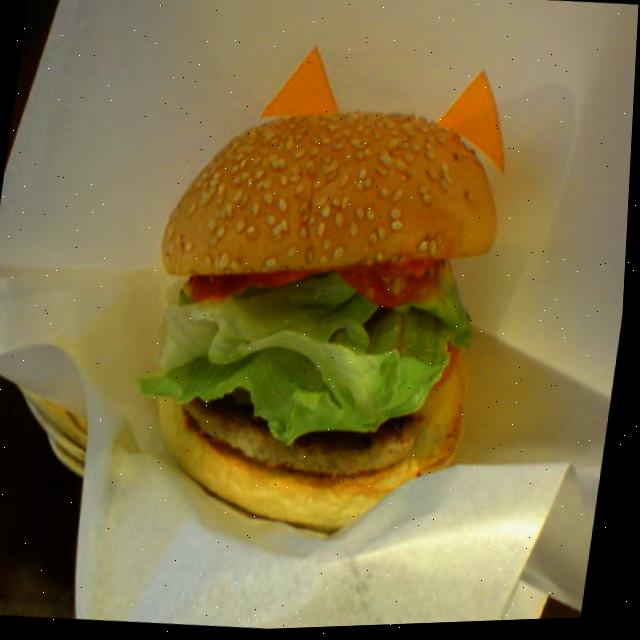汉堡快餐: (135, 66, 540, 553)
